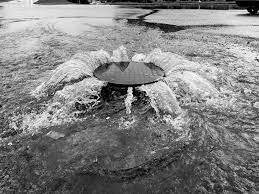drainage overflow-repair-: (34, 37, 228, 146)
